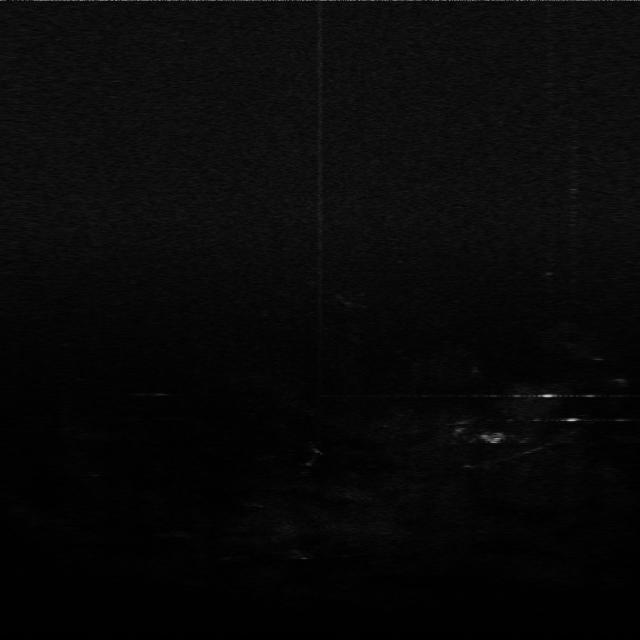rov: (478, 428, 507, 447)
